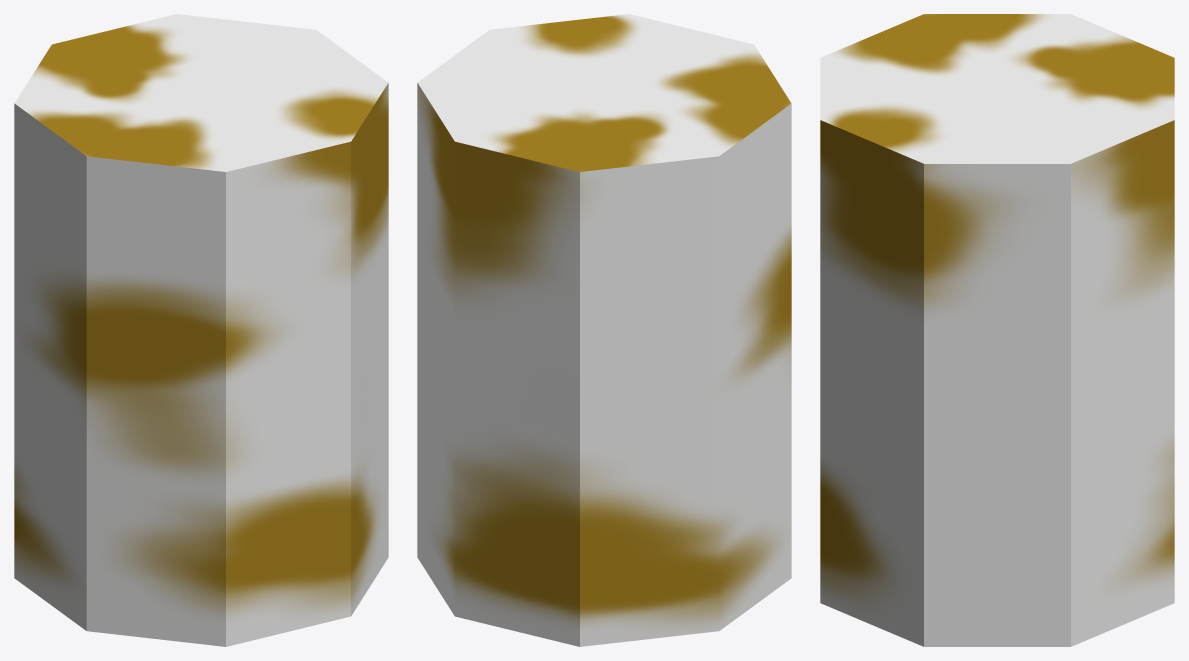
Rendered from FakeWalls-Damaged.fbx.
The picture shows the model from 3 angles, left to right: view 1: azimuth 30°, elevation 25°; view 2: azimuth 150°, elevation 25°; view 3: azimuth 270°, elevation 25°; orthographic projection.
Visible parts, largest first — view 1: pCylinder1; view 2: pCylinder1; view 3: pCylinder1.
Part boxes in pixels (x1,y1,x2,y2): pCylinder1: (14, 14, 388, 646); pCylinder1: (417, 14, 791, 646); pCylinder1: (820, 14, 1174, 646).
Size of the model in its own units: 2 by 3 by 2.
1 material, 1 textured.
